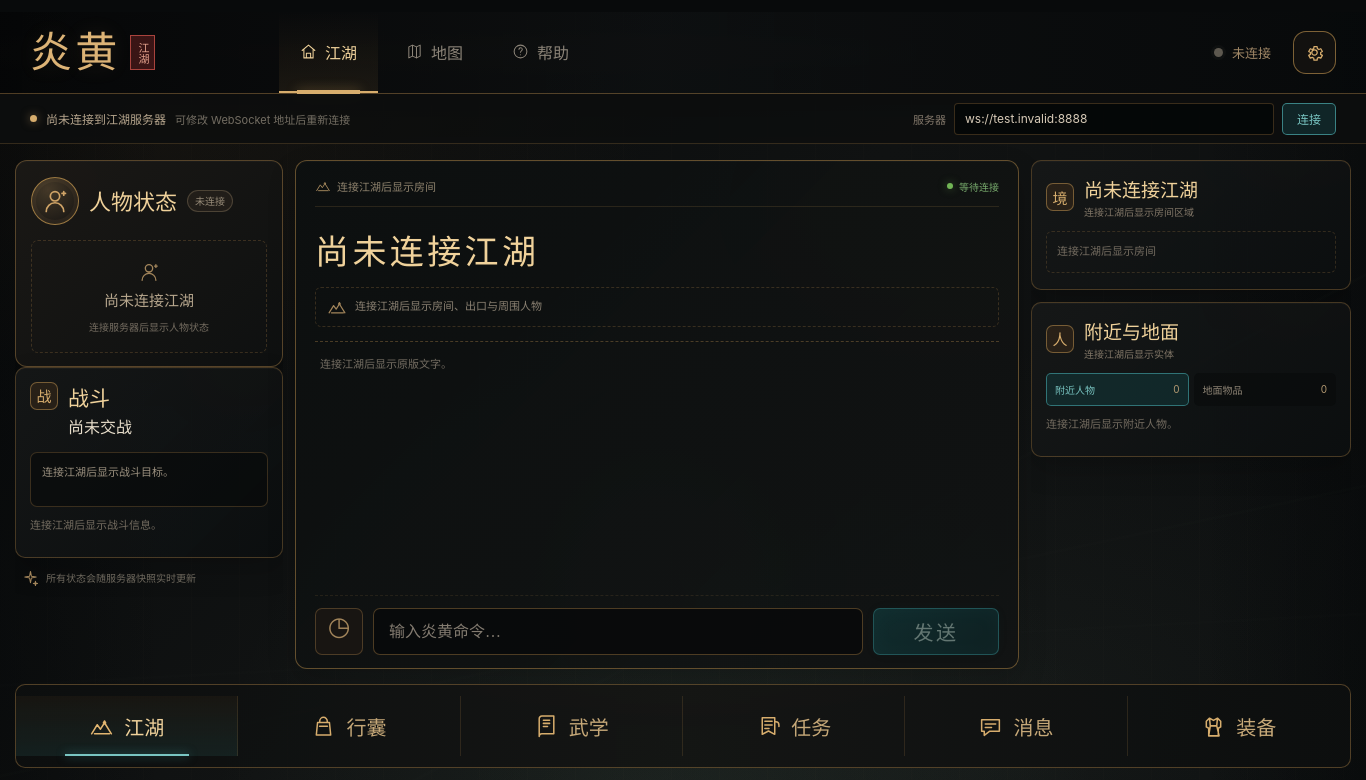
Scenario: App › opens equipment from the desktop dock entry
Click the button "装备": {"x": 1239, "y": 726} [1128,696,1350,756]
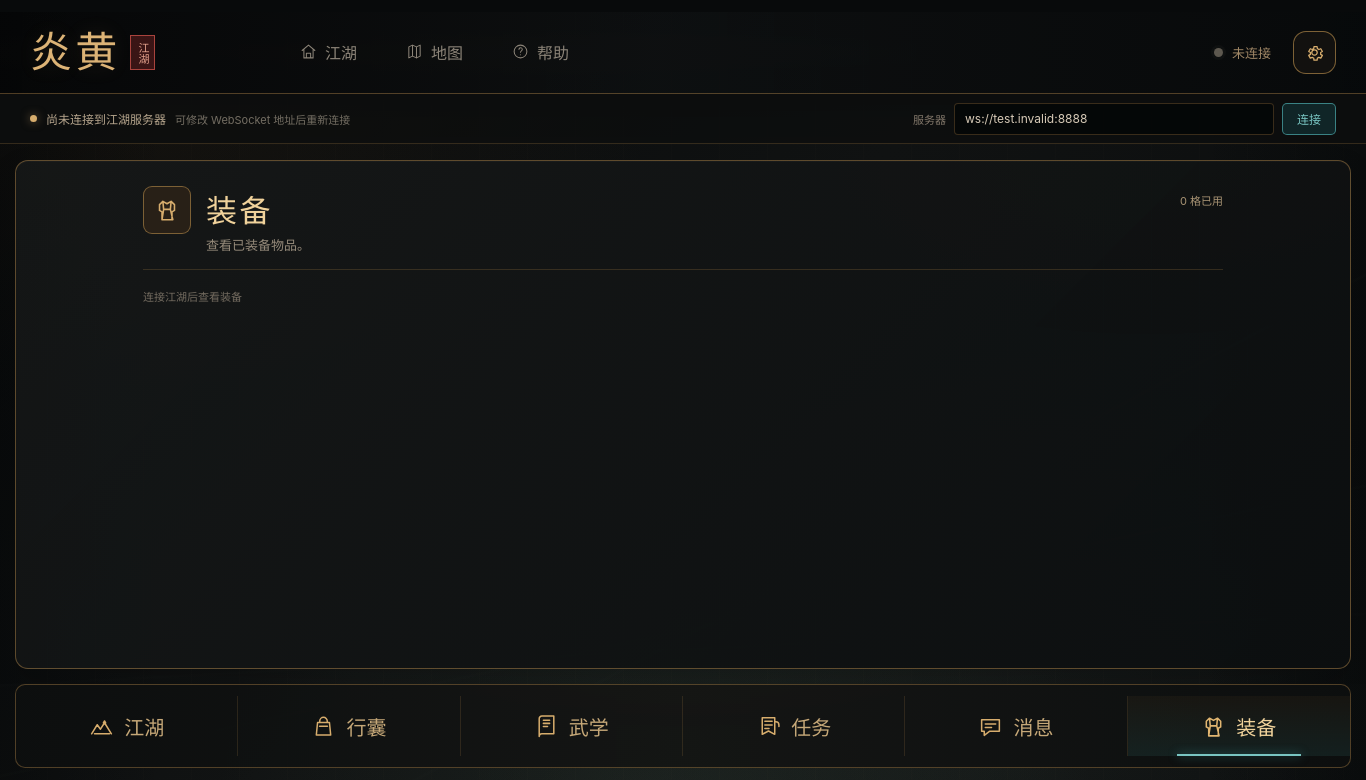
Check: the heading "装备" is shown, box [206,194,273,229]
